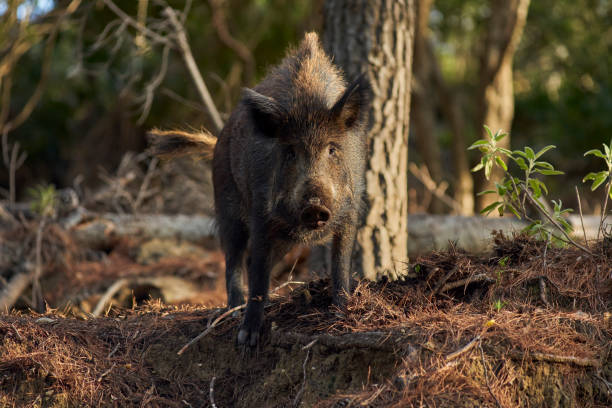pig: (210, 31, 367, 341)
